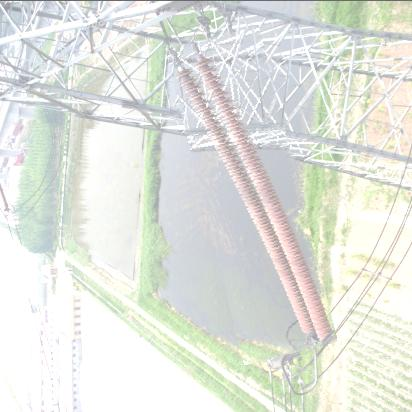insulator: (185, 30, 320, 362)
